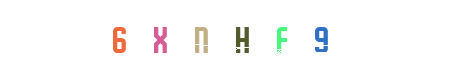6: (78, 0, 158, 80)
9: (281, 0, 361, 80)
F: (240, 0, 320, 80)
H: (202, 0, 282, 80)
N: (195, 0, 275, 80)
X: (140, 0, 220, 80)
